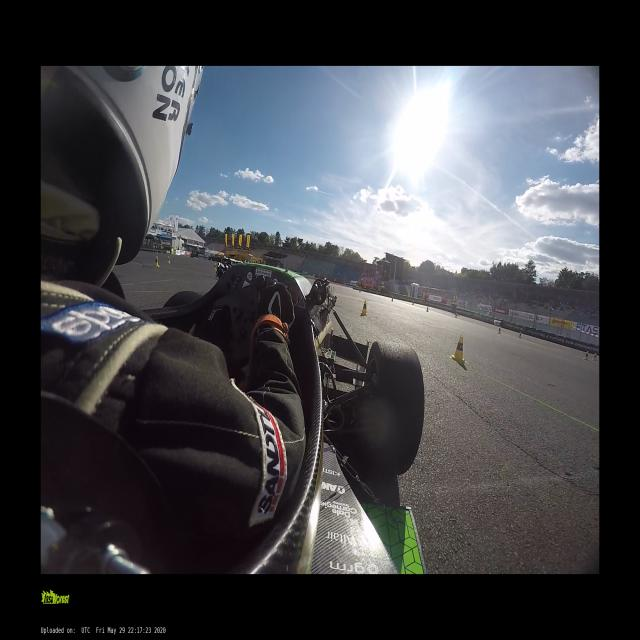yellow_cone: (450, 334, 466, 363), (359, 300, 368, 316), (153, 256, 159, 266), (592, 354, 598, 360), (584, 352, 588, 360), (497, 327, 501, 334), (425, 306, 429, 312), (167, 256, 170, 264), (213, 263, 216, 270), (454, 313, 458, 318), (518, 332, 521, 338), (391, 296, 393, 302), (412, 301, 414, 305)
